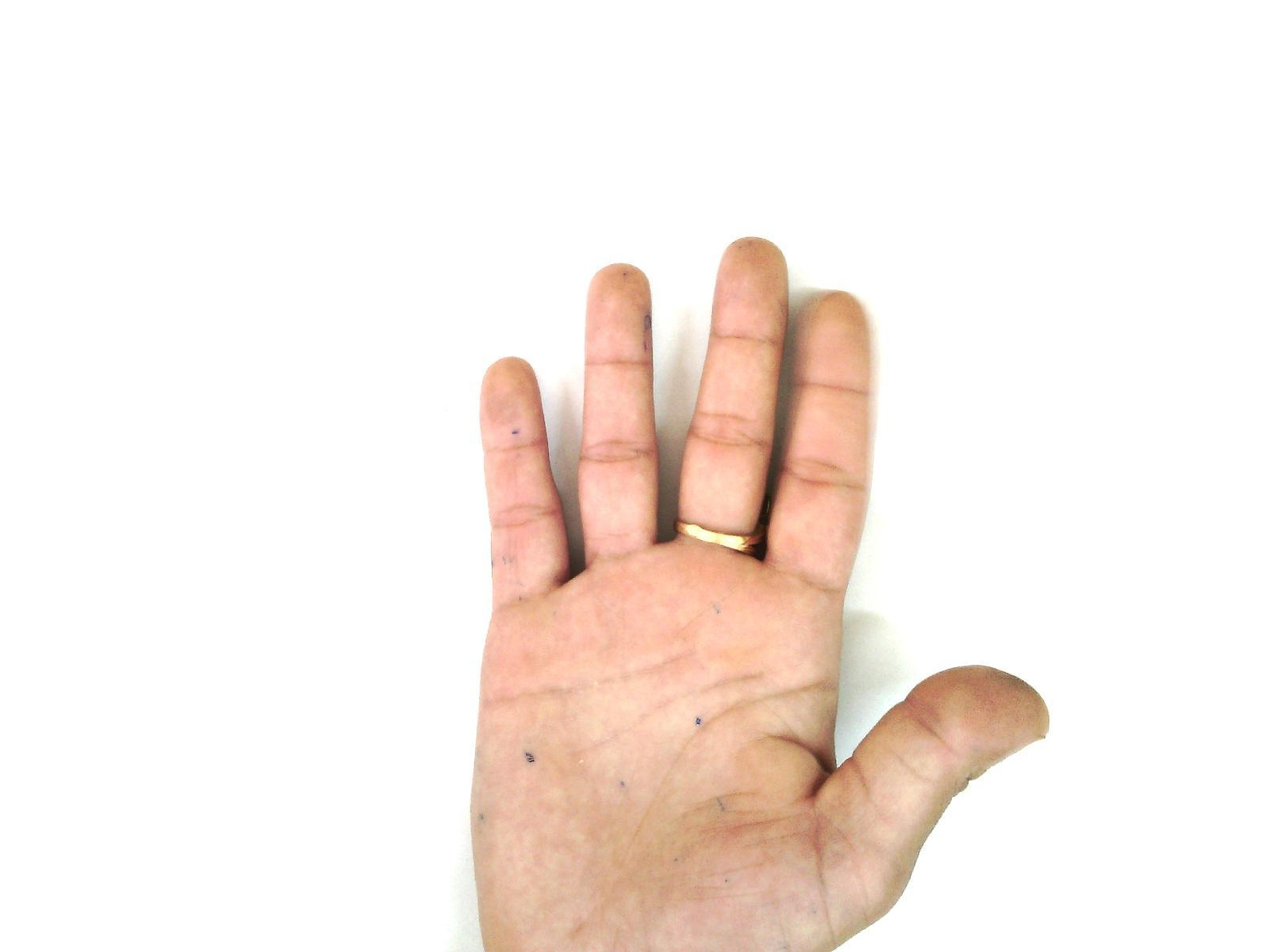open_palm: (466, 236, 1052, 952)
